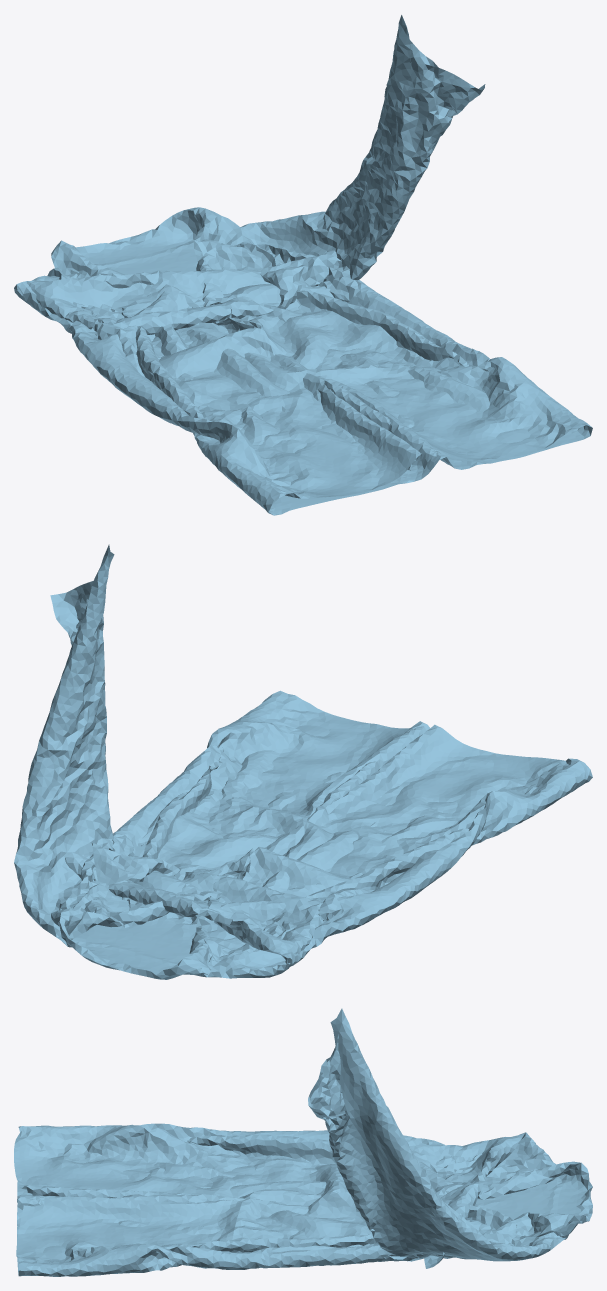
The model's file is frame_09.glb.
The picture shows the model from 3 angles, top to bottom: view 1: azimuth 30°, elevation 25°; view 2: azimuth 150°, elevation 25°; view 3: azimuth 270°, elevation 25°; orthographic projection. The views are drawn at different scales.
Visible parts, largest first — view 1: frame_09.obj; view 2: frame_09.obj; view 3: frame_09.obj.
Boxes of the visible parts, x1=… form: frame_09.obj: x1=14, y1=15, x2=592, y2=515; frame_09.obj: x1=14, y1=544, x2=592, y2=979; frame_09.obj: x1=14, y1=1008, x2=592, y2=1276.
Bounding box in the file's own units: 1.13 × 0.841 × 1.65.
